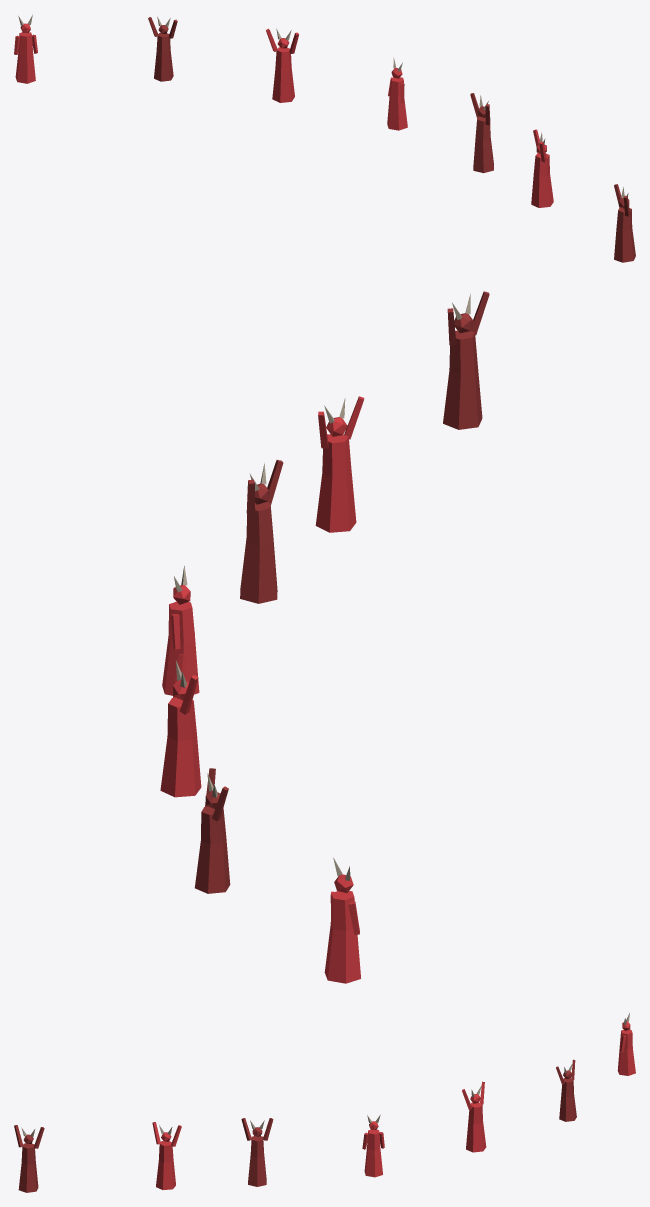
The model's file is Stands_3_1_0_Ice.obj.
The picture shows the model from 3 angles, top to bottom: view 1: azimuth 30°, elevation 25°; view 2: azimuth 150°, elevation 25°; view 3: azimuth 270°, elevation 25°; orthographic projection. The views are drawn at different scales.
Parts seen in each view (by area): view 1: Stands_3_1_0_Ice; view 2: Stands_3_1_0_Ice; view 3: Stands_3_1_0_Ice.
Boxes of the visible parts, x1,y1,x2,y2 form: Stands_3_1_0_Ice: (14,14,635,262); Stands_3_1_0_Ice: (160,291,489,983); Stands_3_1_0_Ice: (14,1013,635,1192).
Bounding box in the file's own units: 15.11 × 3.56 × 31.6.
1 material, 1 textured.
